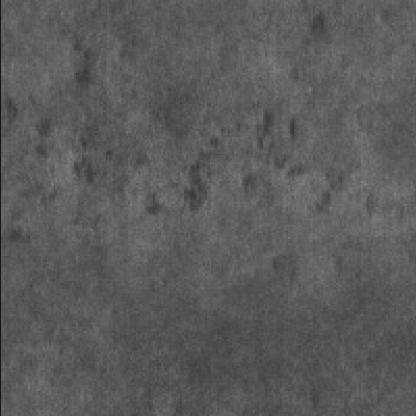rolled-in_scale: (65, 108, 339, 218)
